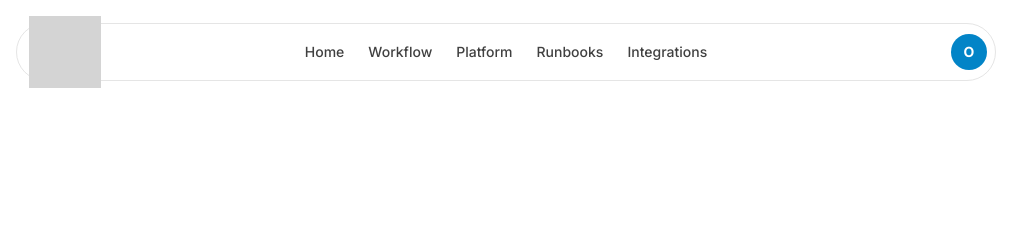
Test case: Navbar › swaps back to the signed-out nav after signing out from the menu
Click the button "O". click: {"x": 969, "y": 52}
box: left=951, top=34, right=987, bottom=70
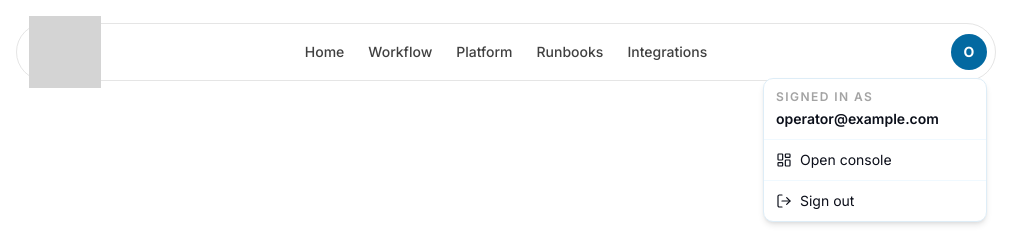
Click the menu item "Sign out". click: {"x": 815, "y": 200}
box: left=776, top=192, right=854, bottom=209
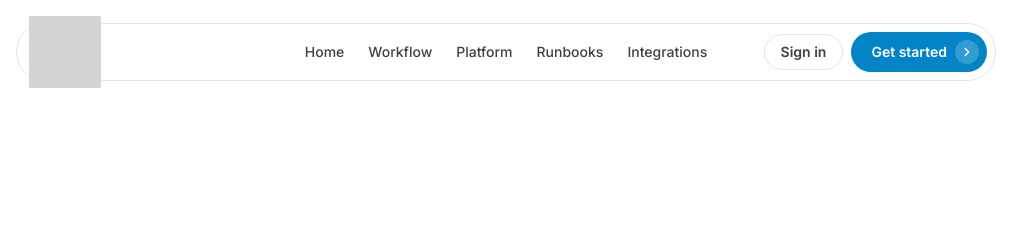
Now the link "Sign in" is shown, box left=764, top=34, right=843, bottom=70
Now the button "Account menu" is gone
